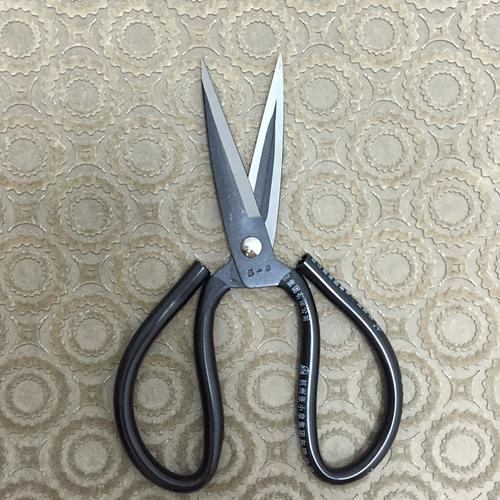scissor: (114, 53, 405, 496)
